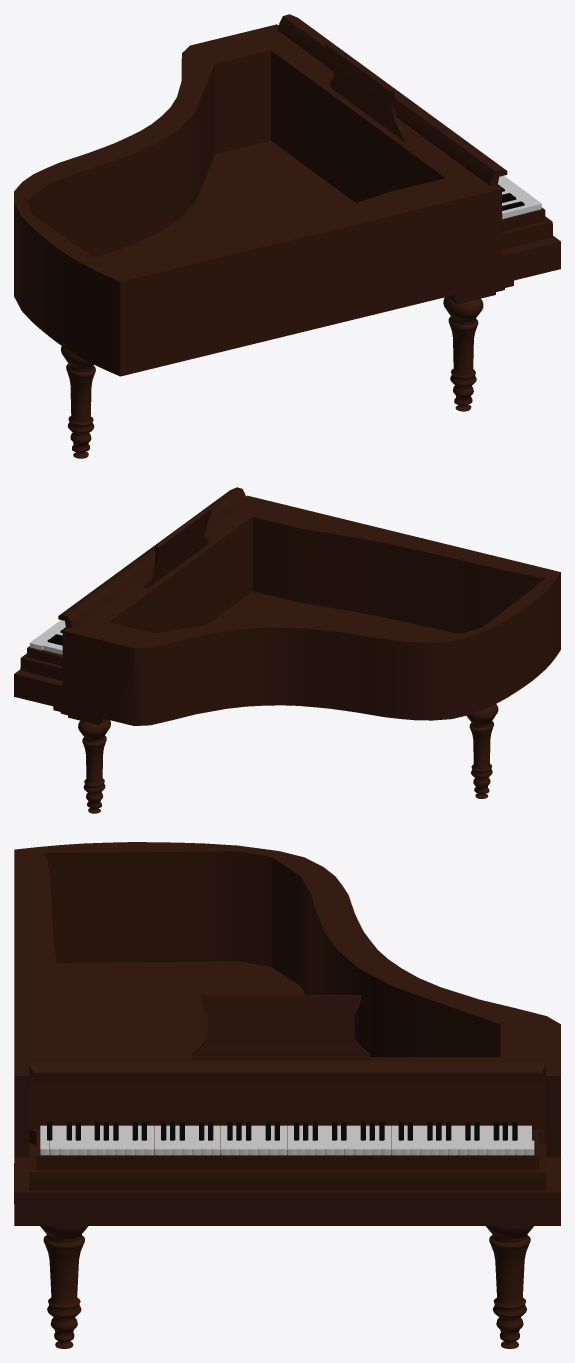
Rendered from Lv1_GrandPiano.fbx.
3 renders of one model, top to bottom at view 1: azimuth 30°, elevation 25°; view 2: azimuth 150°, elevation 25°; view 3: azimuth 270°, elevation 25°, orthographic. The views are drawn at different scales.
Parts seen in each view (by area): view 1: GrandPiano1; view 2: GrandPiano1; view 3: GrandPiano1.
Boxes of the visible parts, x1=… form: GrandPiano1: x1=14, y1=14, x2=560, y2=458; GrandPiano1: x1=14, y1=487, x2=560, y2=813; GrandPiano1: x1=14, y1=842, x2=560, y2=1348.
Bounding box in the file's own units: 4.16 × 2.46 × 3.58.
